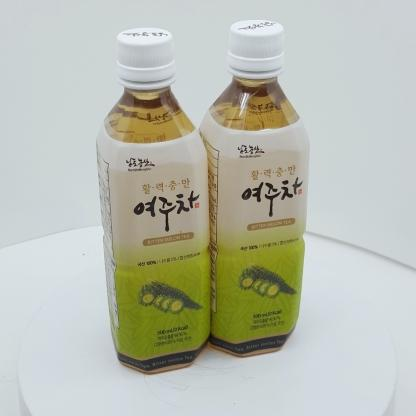-----------500ML: (96, 28, 210, 375), (198, 20, 310, 358)
